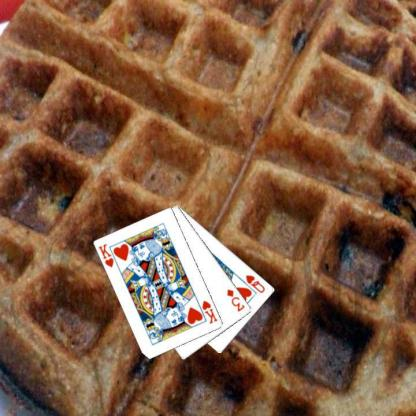3D: (225, 287, 246, 313)
KH: (199, 298, 219, 325), (96, 242, 115, 269)
QH: (244, 272, 266, 294)
